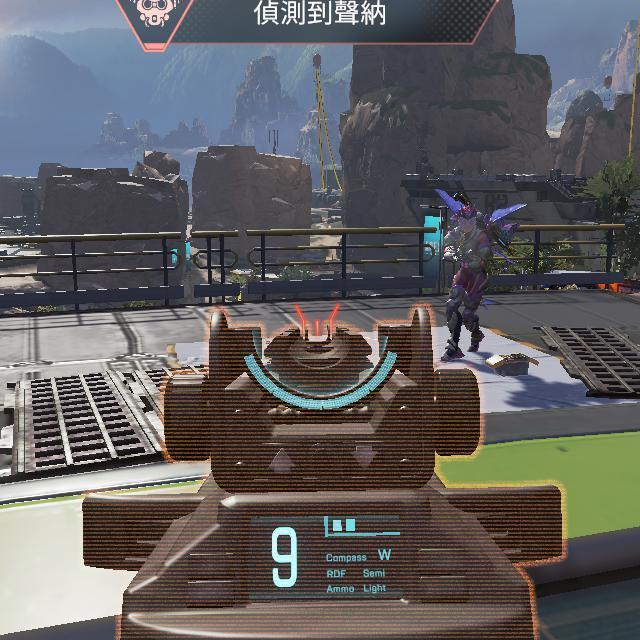avatar: (436, 199, 497, 364)
